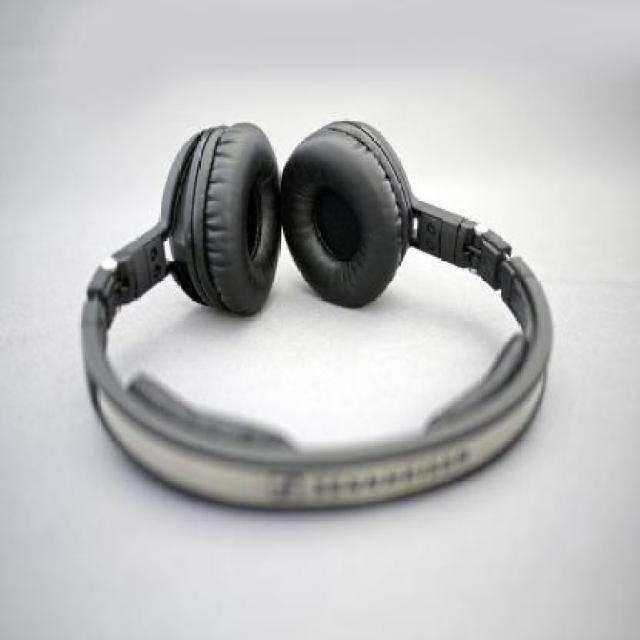earphone: (61, 71, 562, 522)
